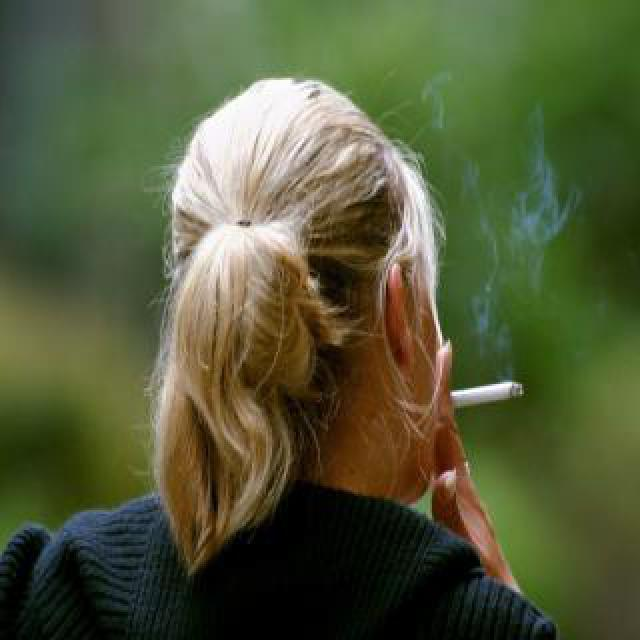Smoke: (464, 92, 588, 386)
